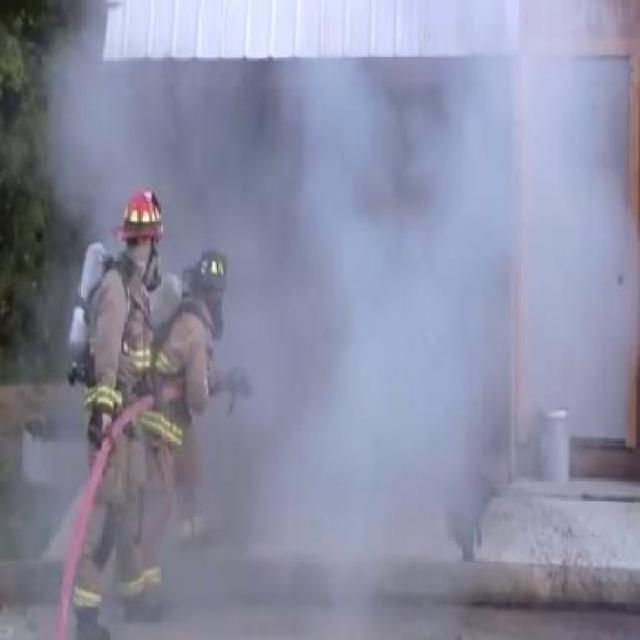smoke: (346, 64, 528, 492), (46, 58, 337, 180), (253, 238, 349, 598)
